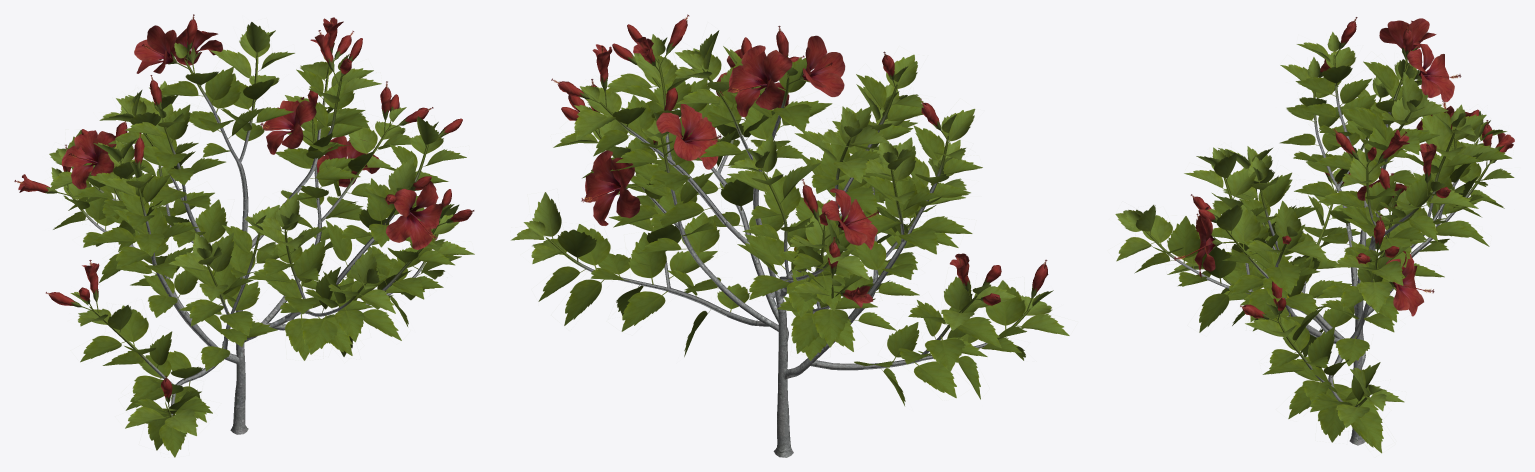
Rendered from hibiscus.glb.
3 renders of one model, left to right at view 1: azimuth 30°, elevation 25°; view 2: azimuth 150°, elevation 25°; view 3: azimuth 270°, elevation 25°, orthographic. The views are drawn at different scales.
Visible parts, largest first — view 1: Hibiscus_rosa_sinensis_HD_Hibiscus rs leaf 01_0, Hibiscus_rosa_sinensis_HD_Hibiscus rs leaf 02_0, Hibiscus_rosa_sinensis_HD_Hibiscus rs leaf 03_0, Hibiscus_rosa_sinensis_HD_Hibiscus petal 01_0, Hibiscus_rosa_sinensis_HD_Hibiscus bud_0, Hibiscus_rosa_sinensis_HD_Hibiscus rs bark 01_0, Hibiscus_rosa_sinensis_HD_Hibiscus rs twig_0; view 2: Hibiscus_rosa_sinensis_HD_Hibiscus rs leaf 01_0, Hibiscus_rosa_sinensis_HD_Hibiscus rs leaf 02_0, Hibiscus_rosa_sinensis_HD_Hibiscus petal 01_0, Hibiscus_rosa_sinensis_HD_Hibiscus rs leaf 03_0, Hibiscus_rosa_sinensis_HD_Hibiscus rs bark 01_0, Hibiscus_rosa_sinensis_HD_Hibiscus bud_0, Hibiscus_rosa_sinensis_HD_Hibiscus rs twig_0; view 3: Hibiscus_rosa_sinensis_HD_Hibiscus rs leaf 01_0, Hibiscus_rosa_sinensis_HD_Hibiscus rs leaf 02_0, Hibiscus_rosa_sinensis_HD_Hibiscus rs leaf 03_0, Hibiscus_rosa_sinensis_HD_Hibiscus petal 01_0, Hibiscus_rosa_sinensis_HD_Hibiscus bud_0, Hibiscus_rosa_sinensis_HD_Hibiscus rs bark 01_0, Hibiscus_rosa_sinensis_HD_Hibiscus rs twig_0.
Part boxes in pixels (x1,y1,x2,y2): Hibiscus_rosa_sinensis_HD_Hibiscus rs leaf 01_0: (53,66,461,457); Hibiscus_rosa_sinensis_HD_Hibiscus rs leaf 02_0: (63,51,474,428); Hibiscus_rosa_sinensis_HD_Hibiscus rs leaf 03_0: (47,22,459,435); Hibiscus_rosa_sinensis_HD_Hibiscus petal 01_0: (61,25,444,249); Hibiscus_rosa_sinensis_HD_Hibiscus bud_0: (18,17,472,402); Hibiscus_rosa_sinensis_HD_Hibiscus rs bark 01_0: (104,112,394,434); Hibiscus_rosa_sinensis_HD_Hibiscus rs twig_0: (65,52,440,417); Hibiscus_rosa_sinensis_HD_Hibiscus rs leaf 01_0: (538,57,1026,405); Hibiscus_rosa_sinensis_HD_Hibiscus rs leaf 02_0: (531,37,1069,335); Hibiscus_rosa_sinensis_HD_Hibiscus petal 01_0: (584,35,877,249); Hibiscus_rosa_sinensis_HD_Hibiscus rs leaf 03_0: (511,30,1053,330); Hibiscus_rosa_sinensis_HD_Hibiscus rs bark 01_0: (618,119,979,457); Hibiscus_rosa_sinensis_HD_Hibiscus bud_0: (557,18,1048,307); Hibiscus_rosa_sinensis_HD_Hibiscus rs twig_0: (546,58,1030,360); Hibiscus_rosa_sinensis_HD_Hibiscus rs leaf 01_0: (1134,61,1512,453); Hibiscus_rosa_sinensis_HD_Hibiscus rs leaf 02_0: (1116,42,1514,427); Hibiscus_rosa_sinensis_HD_Hibiscus rs leaf 03_0: (1115,32,1506,411); Hibiscus_rosa_sinensis_HD_Hibiscus petal 01_0: (1194,18,1473,316); Hibiscus_rosa_sinensis_HD_Hibiscus bud_0: (1193,21,1514,319); Hibiscus_rosa_sinensis_HD_Hibiscus rs bark 01_0: (1191,116,1455,445); Hibiscus_rosa_sinensis_HD_Hibiscus rs twig_0: (1145,54,1489,407).
Bounding box in the file's own units: 1.13 × 1.01 × 0.9363.
12 materials, 11 textured.
